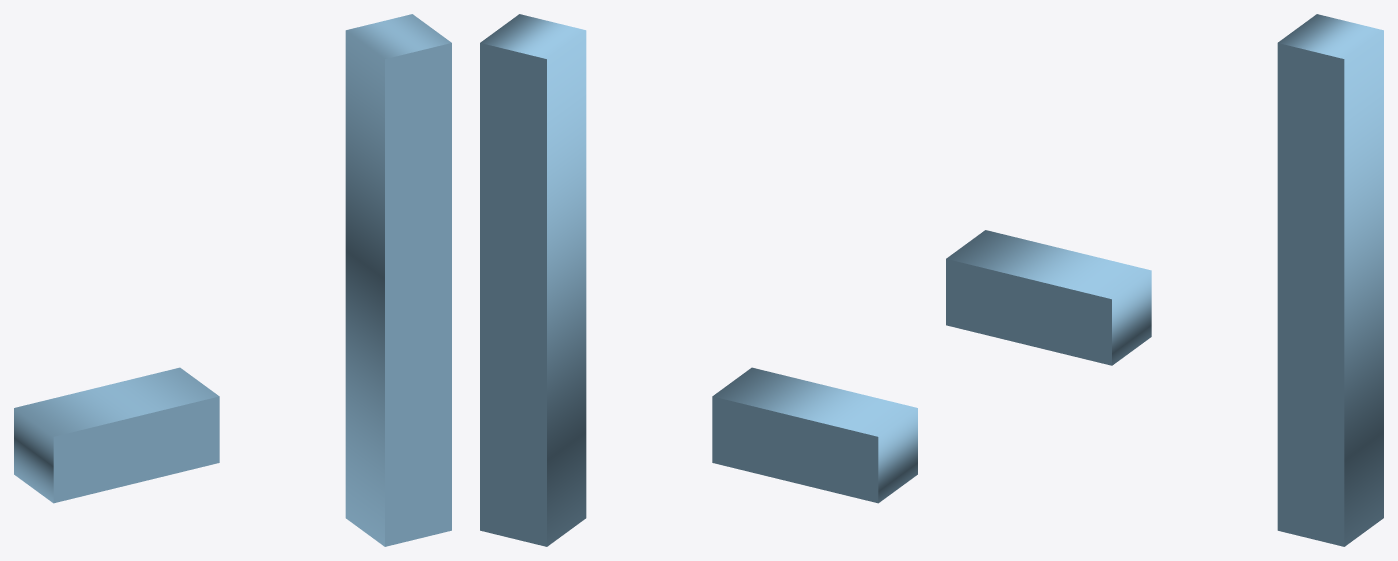
Rendered from minusOne.glb.
The picture shows the model from 3 angles, left to right: view 1: azimuth 30°, elevation 25°; view 2: azimuth 150°, elevation 25°; view 3: azimuth 330°, elevation 25°; orthographic projection.
Visible parts, largest first — view 1: Text; view 2: Text; view 3: Text.
Part boxes in pixels (x1,y1,x2,y2): Text: (14,14,451,546); Text: (480,14,917,546); Text: (946,14,1383,546).
Bounding box in the file's own units: 0.583 × 0.682 × 0.1.
